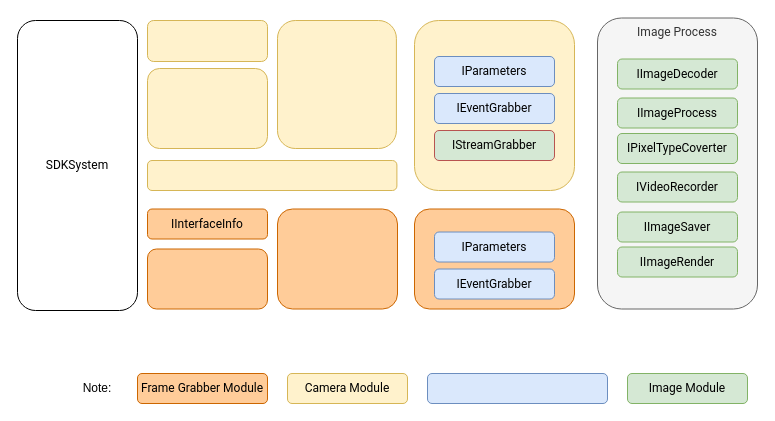
Some shapes in this 775 by 421 pixel diagram are drawn without their labels. Here are the shapes that lost their labels. From the top down, the box of each, then its label:
(146, 20, 268, 62): IDeviceInfo
(276, 20, 396, 148): DeviceFactory
(146, 68, 268, 148): DeviceEnumerator
(414, 20, 574, 190): IDevice
(146, 160, 397, 190): GenTLManager
(146, 248, 268, 309): InterfaceEnumerator
(276, 208, 398, 309): InterfaceFactory
(414, 208, 574, 309): IInterface
(426, 372, 608, 404): Parameter and Event Module
